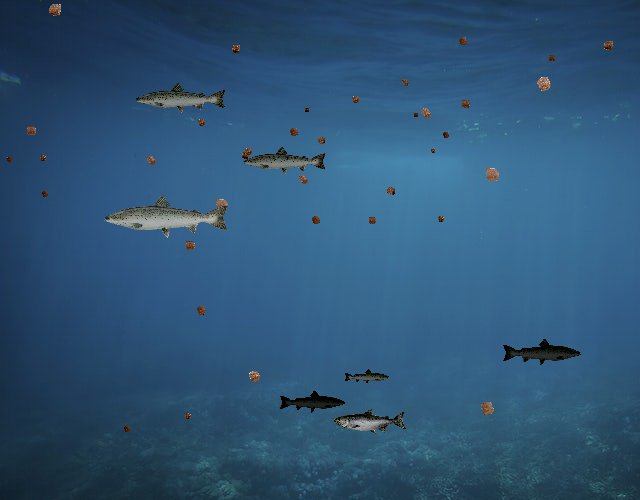Fish: (102, 193, 231, 239), (134, 82, 228, 116), (242, 145, 328, 176), (502, 337, 583, 367), (335, 409, 408, 435), (278, 389, 346, 414), (343, 369, 390, 386)
Pellet: (242, 364, 267, 389), (453, 31, 472, 50), (347, 91, 364, 108), (180, 409, 195, 424), (433, 212, 448, 226), (120, 422, 134, 436), (36, 151, 50, 165)
